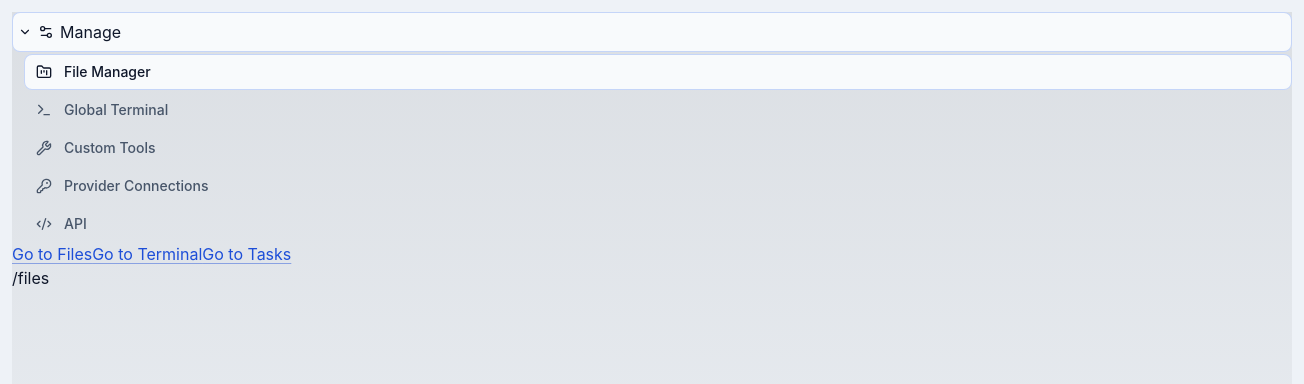
Test: ManageSidebarSection › stays open when navigating between two Manage pages
Expected: the button with aria-label "Collapse Manage" is shown, [12,12,1292,52]
Click the link "Go to Terminal": [147, 254] box [92,244,202,264]
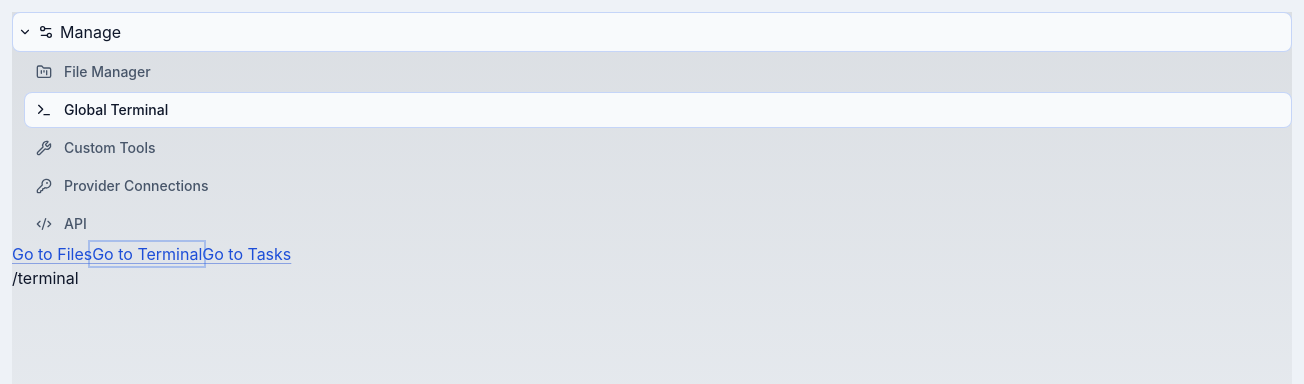
Expected: the button with aria-label "Collapse Manage" is shown, [12,12,1292,52]
Now the text with test id "location-probe" reads "/terminal", box [12,268,79,288]
